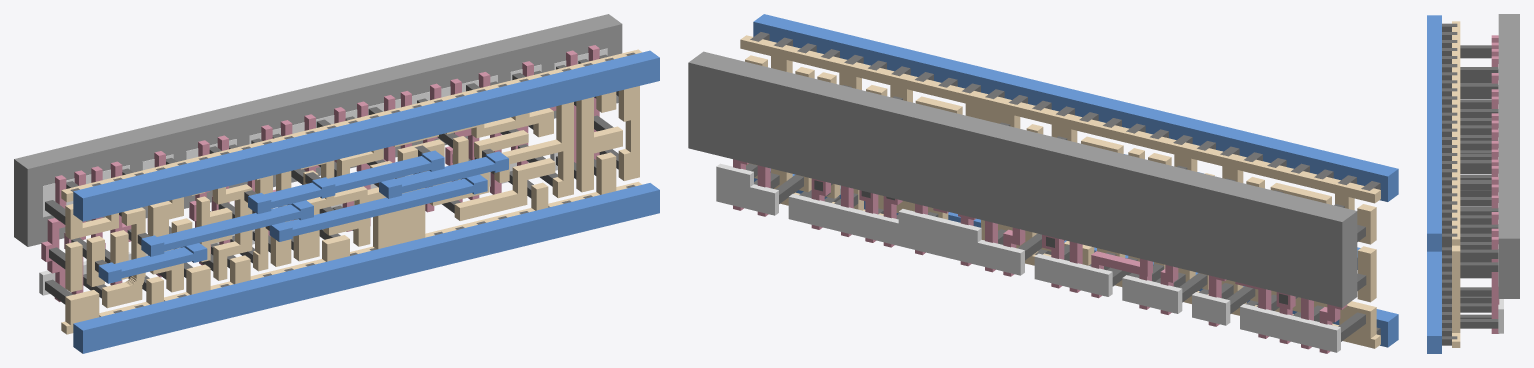
File: sky130_fd_sc_hd__sdfstp_1.gds.gltf
3 views of the same model, side by side, from view 1: azimuth 30°, elevation 25°; view 2: azimuth 150°, elevation 25°; view 3: azimuth 270°, elevation 25° (orthographic). The views are drawn at different scales.
Visible parts, largest first — view 1: sky130_fd_sc_hd__sdfstp_1_met1, sky130_fd_sc_hd__sdfstp_1_li1, sky130_fd_sc_hd__sdfstp_1_nwell, sky130_fd_sc_hd__sdfstp_1_poly, sky130_fd_sc_hd__sdfstp_1_licon, sky130_fd_sc_hd__sdfstp_1_diff, sky130_fd_sc_hd__sdfstp_1_mcon; view 2: sky130_fd_sc_hd__sdfstp_1_nwell, sky130_fd_sc_hd__sdfstp_1_li1, sky130_fd_sc_hd__sdfstp_1_diff, sky130_fd_sc_hd__sdfstp_1_met1, sky130_fd_sc_hd__sdfstp_1_poly, sky130_fd_sc_hd__sdfstp_1_licon, sky130_fd_sc_hd__sdfstp_1_mcon; view 3: sky130_fd_sc_hd__sdfstp_1_licon, sky130_fd_sc_hd__sdfstp_1_nwell, sky130_fd_sc_hd__sdfstp_1_met1, sky130_fd_sc_hd__sdfstp_1_mcon, sky130_fd_sc_hd__sdfstp_1_li1, sky130_fd_sc_hd__sdfstp_1_poly, sky130_fd_sc_hd__sdfstp_1_diff.
Boxes of the visible parts, x1,y1,x2,y2 form: sky130_fd_sc_hd__sdfstp_1_met1: (73, 50, 659, 353); sky130_fd_sc_hd__sdfstp_1_li1: (61, 49, 641, 334); sky130_fd_sc_hd__sdfstp_1_nwell: (14, 14, 622, 246); sky130_fd_sc_hd__sdfstp_1_poly: (41, 45, 599, 301); sky130_fd_sc_hd__sdfstp_1_licon: (45, 54, 618, 304); sky130_fd_sc_hd__sdfstp_1_diff: (39, 48, 607, 295); sky130_fd_sc_hd__sdfstp_1_mcon: (70, 52, 635, 316); sky130_fd_sc_hd__sdfstp_1_nwell: (688, 51, 1357, 307); sky130_fd_sc_hd__sdfstp_1_li1: (740, 35, 1380, 348); sky130_fd_sc_hd__sdfstp_1_diff: (716, 163, 1340, 352); sky130_fd_sc_hd__sdfstp_1_met1: (753, 14, 1398, 347); sky130_fd_sc_hd__sdfstp_1_poly: (733, 159, 1347, 353); sky130_fd_sc_hd__sdfstp_1_licon: (746, 85, 1366, 341); sky130_fd_sc_hd__sdfstp_1_mcon: (750, 32, 1380, 335); sky130_fd_sc_hd__sdfstp_1_licon: (1460, 45, 1498, 328); sky130_fd_sc_hd__sdfstp_1_nwell: (1498, 14, 1519, 298); sky130_fd_sc_hd__sdfstp_1_met1: (1427, 15, 1441, 353); sky130_fd_sc_hd__sdfstp_1_mcon: (1442, 23, 1457, 345); sky130_fd_sc_hd__sdfstp_1_li1: (1452, 21, 1460, 347); sky130_fd_sc_hd__sdfstp_1_poly: (1491, 35, 1499, 333); sky130_fd_sc_hd__sdfstp_1_diff: (1498, 64, 1503, 333).
Size of the model in its own units: 12.8 by 3.2 by 2.24.
